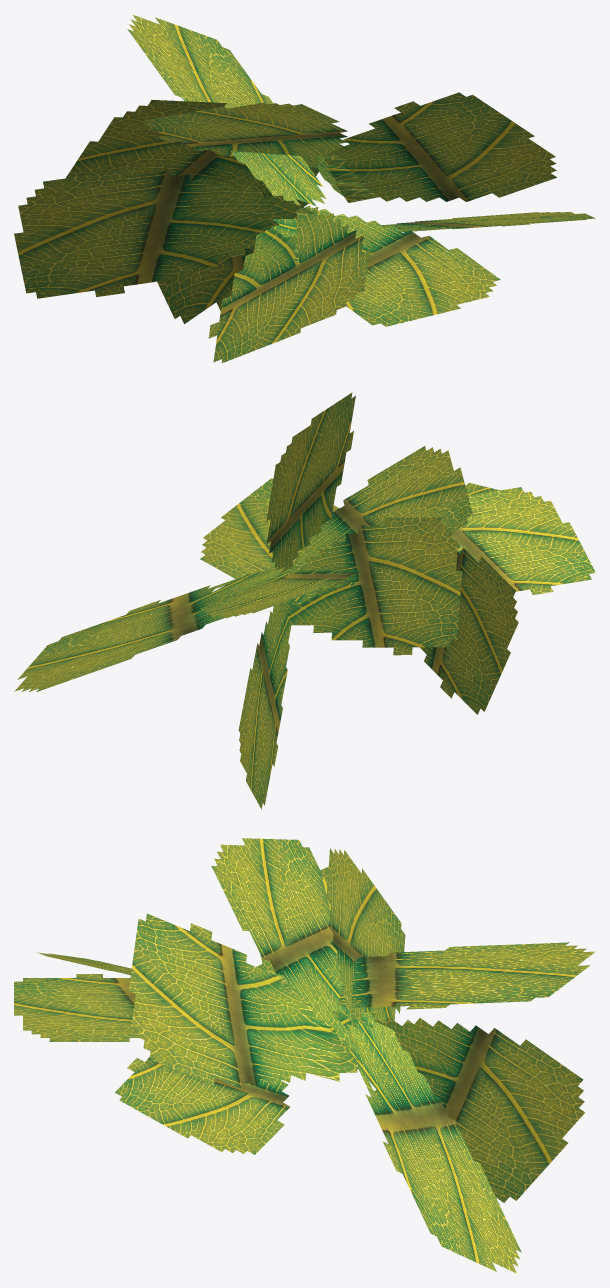
The model's file is leaf.obj.
3 renders of one model, top to bottom at view 1: azimuth 30°, elevation 25°; view 2: azimuth 150°, elevation 25°; view 3: azimuth 270°, elevation 25°, orthographic. The views are drawn at different scales.
Parts seen in each view (by area): view 1: Plane; view 2: Plane; view 3: Plane.
Part boxes in pixels (bbox=[...]): Plane: bbox=[14, 14, 595, 363]; Plane: bbox=[14, 392, 595, 809]; Plane: bbox=[14, 838, 595, 1273].
Size of the model in its own units: 4.16 by 2.52 by 4.09.
